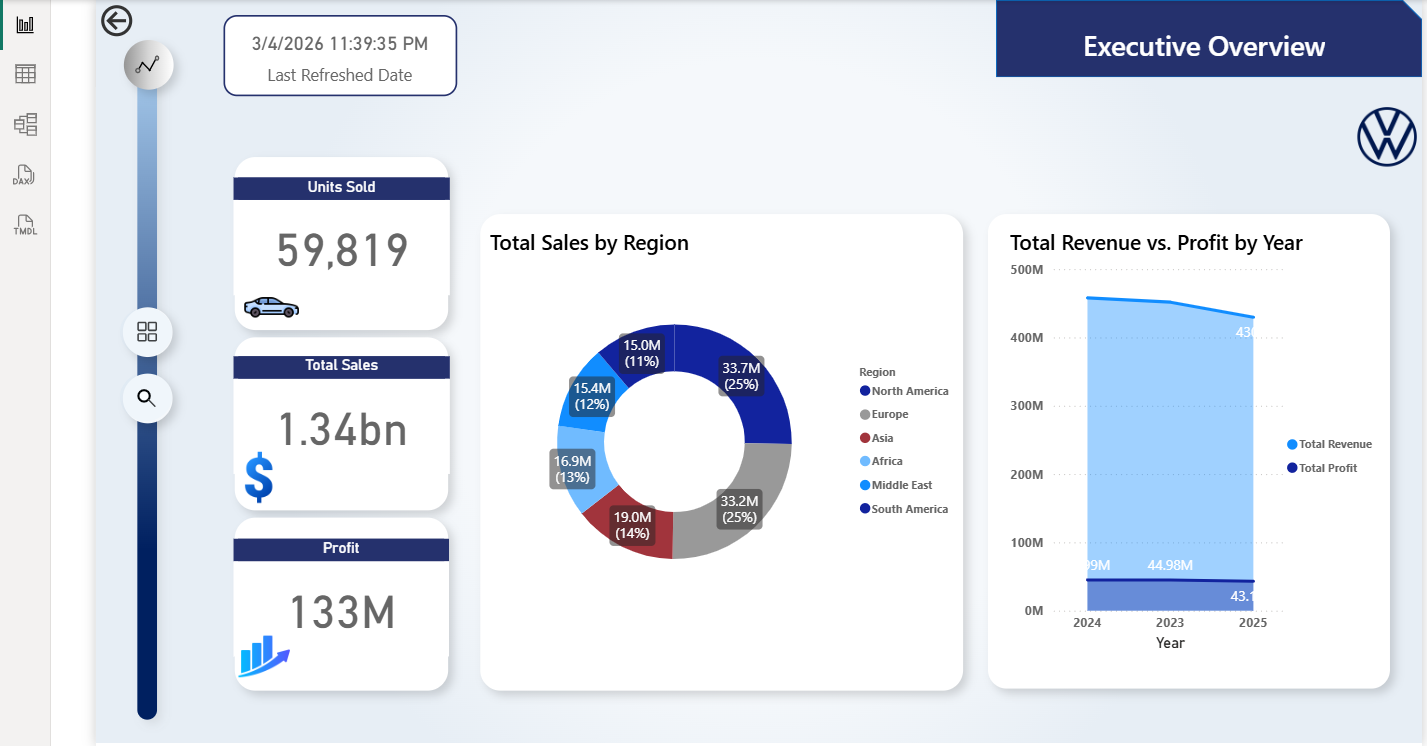

What the dashboard file says about the page in this screenshot:
{"tool":"powerbi","page":{"name":"Executive Overview","canvas":[1280,720],"ordinal":2},"visuals":[{"type":"shape","box":[868.6,0,411.4,74.8],"z":0},{"type":"card","title":"Units Sold","fields":{"Values":["Sum(Sales Fact Table.Units_Sold)"]},"box":[132.7,171.3,208.7,113.4],"z":1000},{"type":"actionButton","box":[0,0,45,40],"z":2000},{"type":"card","title":"Total Sales","fields":{"Values":["Sum(Sales Fact Table.Revenue_USD)"]},"box":[132.7,343.8,208.7,113.4],"z":3000},{"type":"card","title":"Profit","fields":{"Values":["Sum(Sales Fact Table.Profit_USD)"]},"box":[132.7,520,208.2,113.6],"z":4000},{"type":"donutChart","title":"Total Sales by Region","fields":{"Category":["Country.Region"],"Y":["Sum(Sales Fact Table.Profit_USD)"]},"box":[375,220,462.5,387.5],"z":5000},{"type":"areaChart","title":"Total Revenue vs. Profit by Year","fields":{"Category":["Date Dim.Year"],"Y":["Sum(Sales Fact Table.Revenue_USD)","Sum(Sales Fact Table.Profit_USD)"]},"box":[877.1,219.6,369.2,413.8],"z":6000},{"type":"shape","box":[22.9,296.8,50.7,47.1],"z":7000},{"type":"shape","box":[22.9,359.5,50.7,47.1],"z":8000},{"type":"image","box":[1212.5,92.9,67.6,78.4],"z":9000},{"type":"image","box":[125.5,265.4,88.1,62.7],"z":10000},{"type":"image","box":[118.2,430.7,77.2,60.3],"z":11000},{"type":"image","box":[129.1,596,66.4,74.8],"z":12000},{"type":"card","title":"Last Refreshed","fields":{"Values":["Min(Last Refreshed.LocalTime)"]},"box":[123.1,14.5,225.6,78.4],"z":13000}]}

Visuals, with their boxes on the page's 1280x720 design canvas (x1, y1, x2, y2). These are canvas units, not pixel positions in the 1427x746 screenshot, which may show the page scaled, cropped or inside an application window:
shape: l=869, t=0, r=1280, b=75
"Units Sold" card: l=133, t=171, r=341, b=285
actionButton: l=0, t=0, r=45, b=40
"Total Sales" card: l=133, t=344, r=341, b=457
"Profit" card: l=133, t=520, r=341, b=634
"Total Sales by Region" donutChart: l=375, t=220, r=838, b=608
"Total Revenue vs. Profit by Year" areaChart: l=877, t=220, r=1246, b=633
shape: l=23, t=297, r=74, b=344
shape: l=23, t=360, r=74, b=407
image: l=1212, t=93, r=1280, b=171
image: l=126, t=265, r=214, b=328
image: l=118, t=431, r=195, b=491
image: l=129, t=596, r=196, b=671
"Last Refreshed" card: l=123, t=14, r=349, b=93
